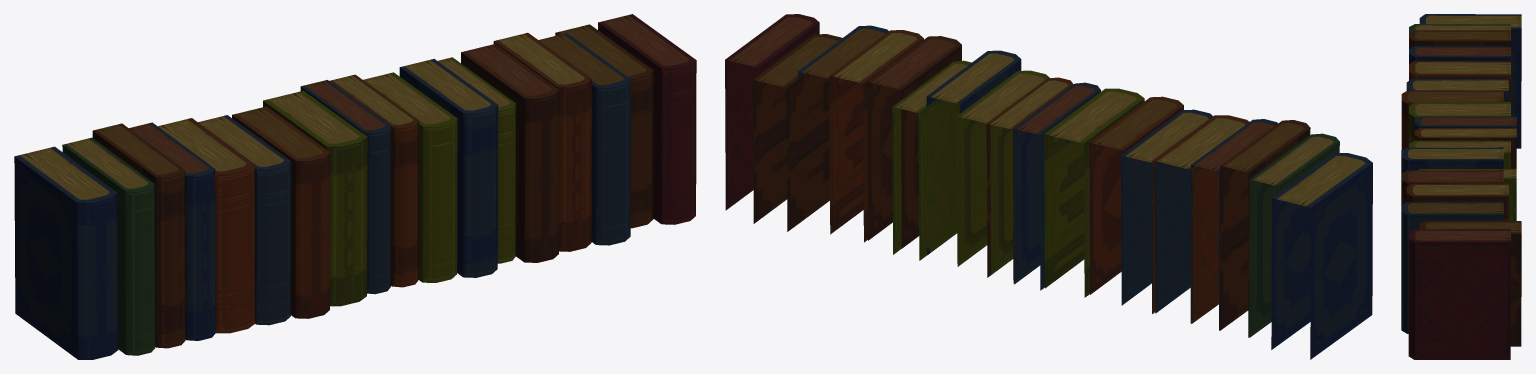
Rendered from prop_bookgroup_medium_2.glb.
3 views of the same model, side by side, from view 1: azimuth 30°, elevation 25°; view 2: azimuth 150°, elevation 25°; view 3: azimuth 270°, elevation 25° (orthographic). The views are drawn at different scales.
Parts seen in each view (by area): view 1: BookGroup_Medium_2; view 2: BookGroup_Medium_2; view 3: BookGroup_Medium_2.
Boxes of the visible parts, <box> form: BookGroup_Medium_2: <box>14,14,696,359</box>; BookGroup_Medium_2: <box>725,14,1372,359</box>; BookGroup_Medium_2: <box>1401,14,1521,359</box>.
Bounding box in the file's own units: 1.1 × 0.2949 × 0.2475.
Materials: 1 (1 with a texture image).
